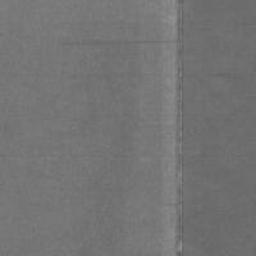Welding line: (174, 0, 186, 256)
